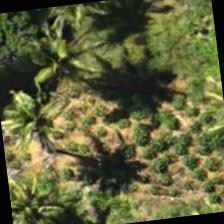Kelapa_Sawit: (7, 12, 108, 112), (0, 72, 80, 171), (5, 150, 75, 223)
